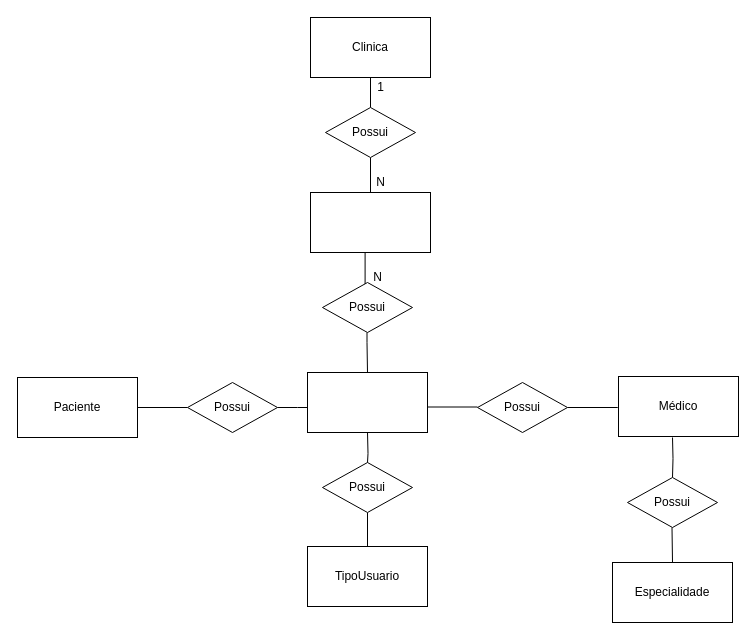
Image size: 756x640. Some labels were removed from this diagram. The shapes that lost their labels are listed below. From the top down, each one's centre as x and y in pixels, then its label:
At (370,222): "Consulta".
At (367,402): "Usuario".
